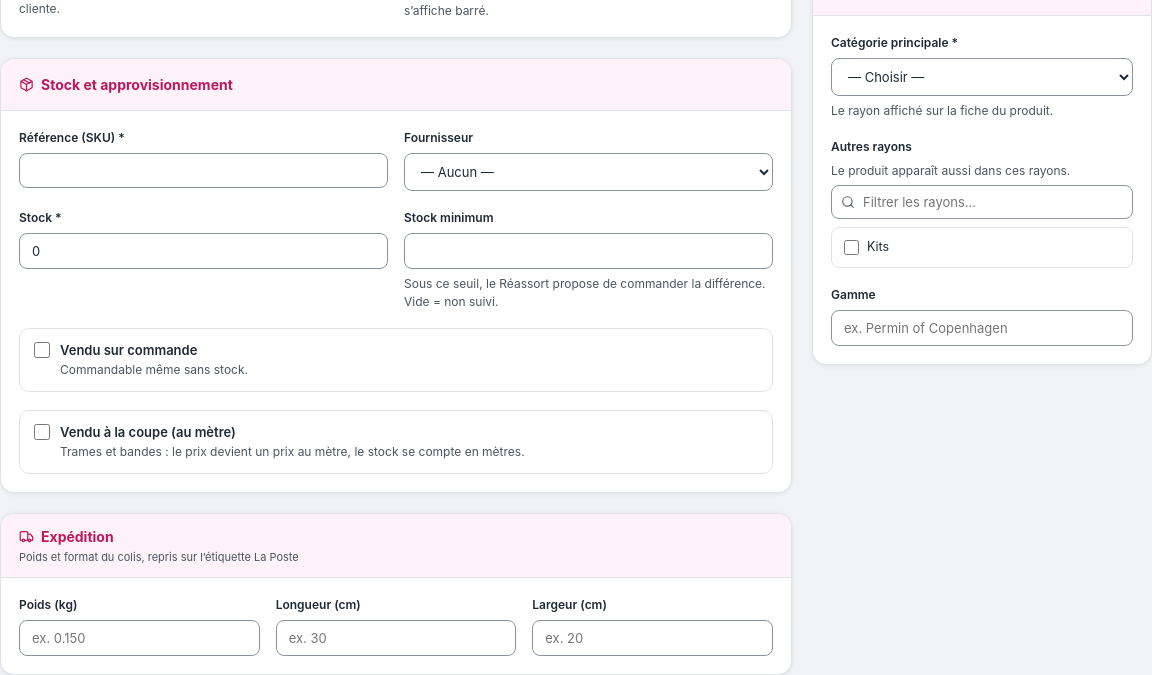
Test: ProductForm — vente à la coupe (ADM-12) › révèle le pas et le minimum quand la vente à la coupe est activée
The image size is (1152, 675).
(page scrolled)
What coordinates should you click on to do the following:
click the checkbox labelled "Vendu à la coupe"
I would click on:
 (42, 432)
Its box is [34,424,50,440].
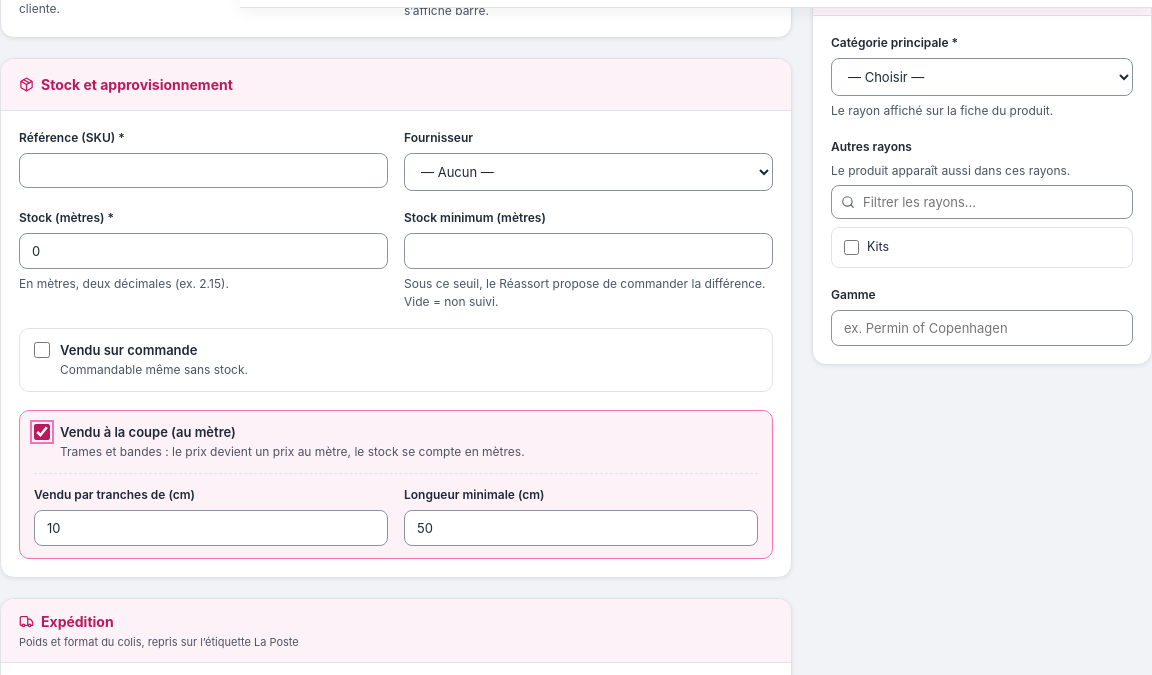
Expected: the number field labelled "Vendu par tranches de (cm)" holds "10", [34,510,388,546]
Expected: the number field labelled "Longueur minimale (cm)" holds "50", [404,510,758,546]
